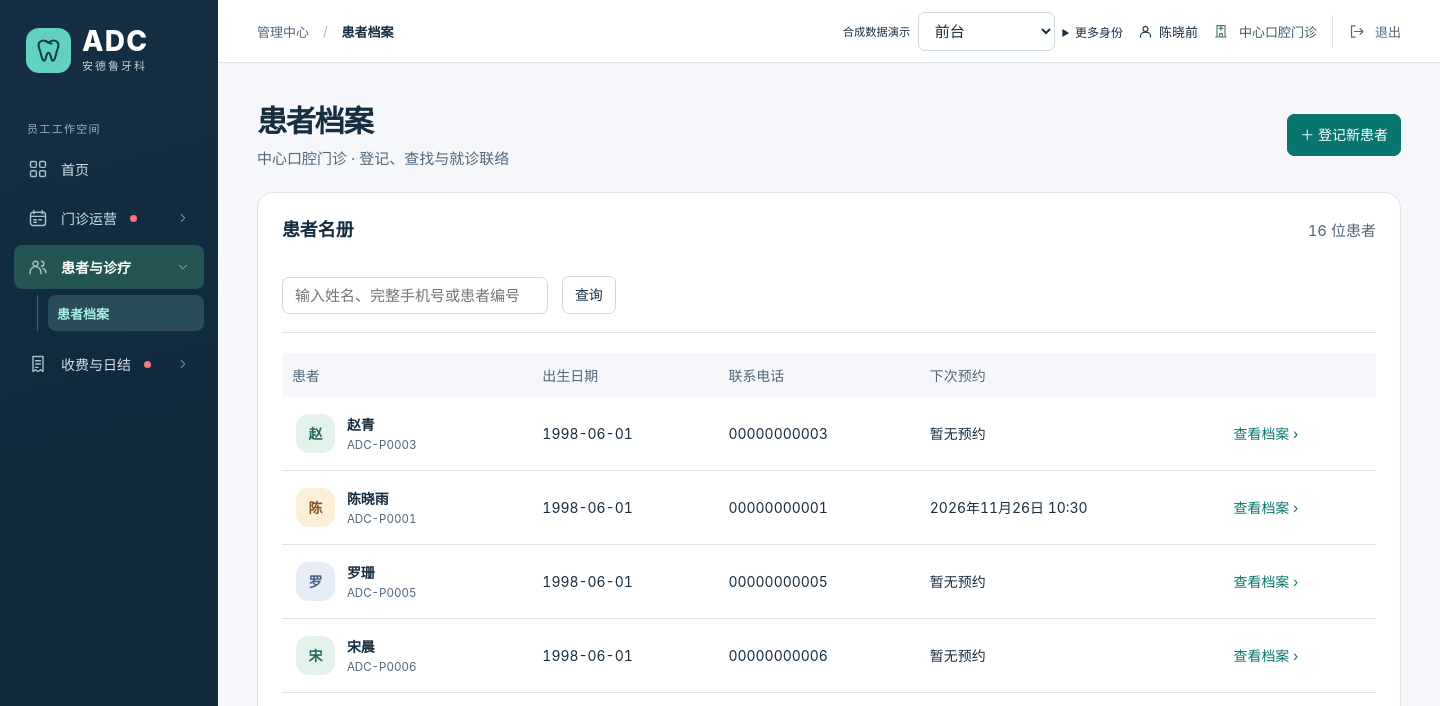
Test: registration offers the existing chart before saving a same-name patient
Click the button "＋ 登记新患者" at (1344, 135), box [1287,114,1401,156]
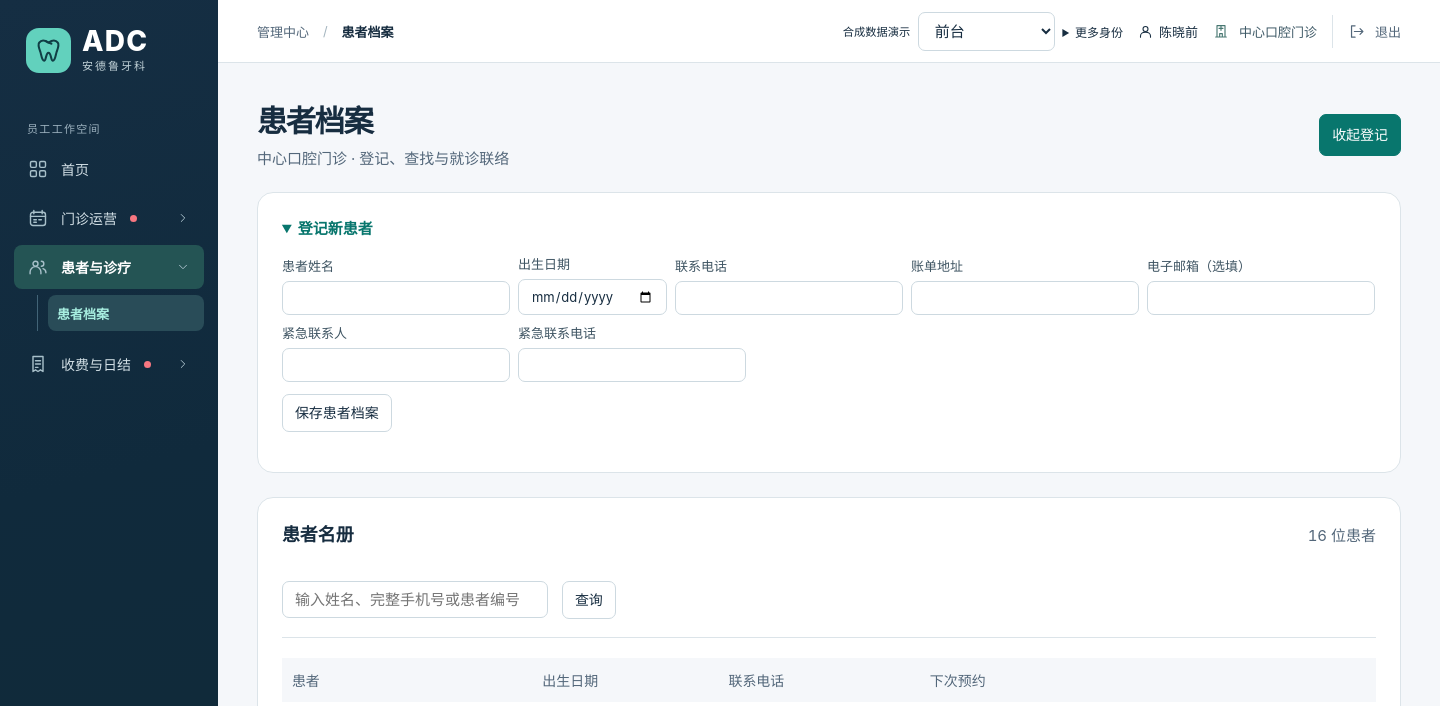
Type "陈晓雨" into the field labelled "患者姓名" at (396, 298), box [282,281,510,315]
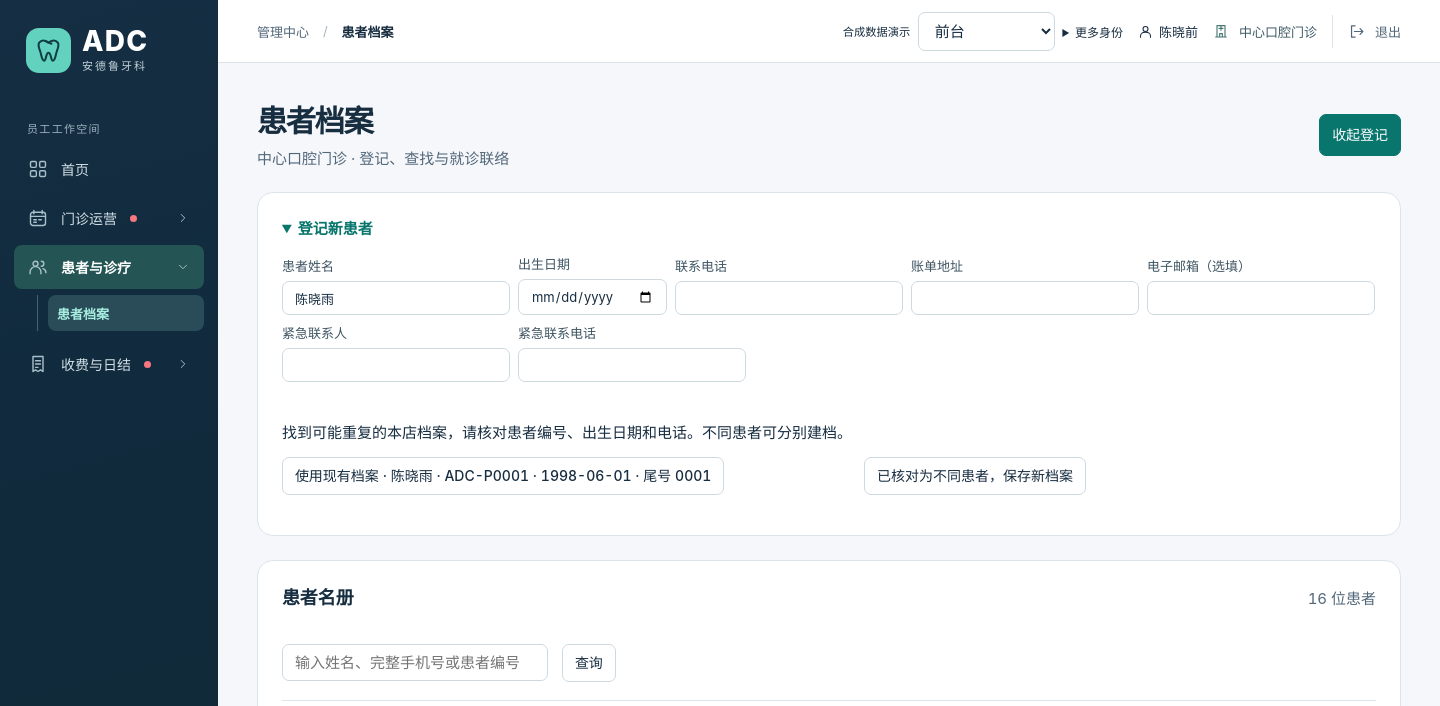
Click the button "使用现有档案 · 陈晓雨 · ADC-P0001 · 1998-06-01 · 尾号 0001" at (503, 476), box [282,457,724,495]
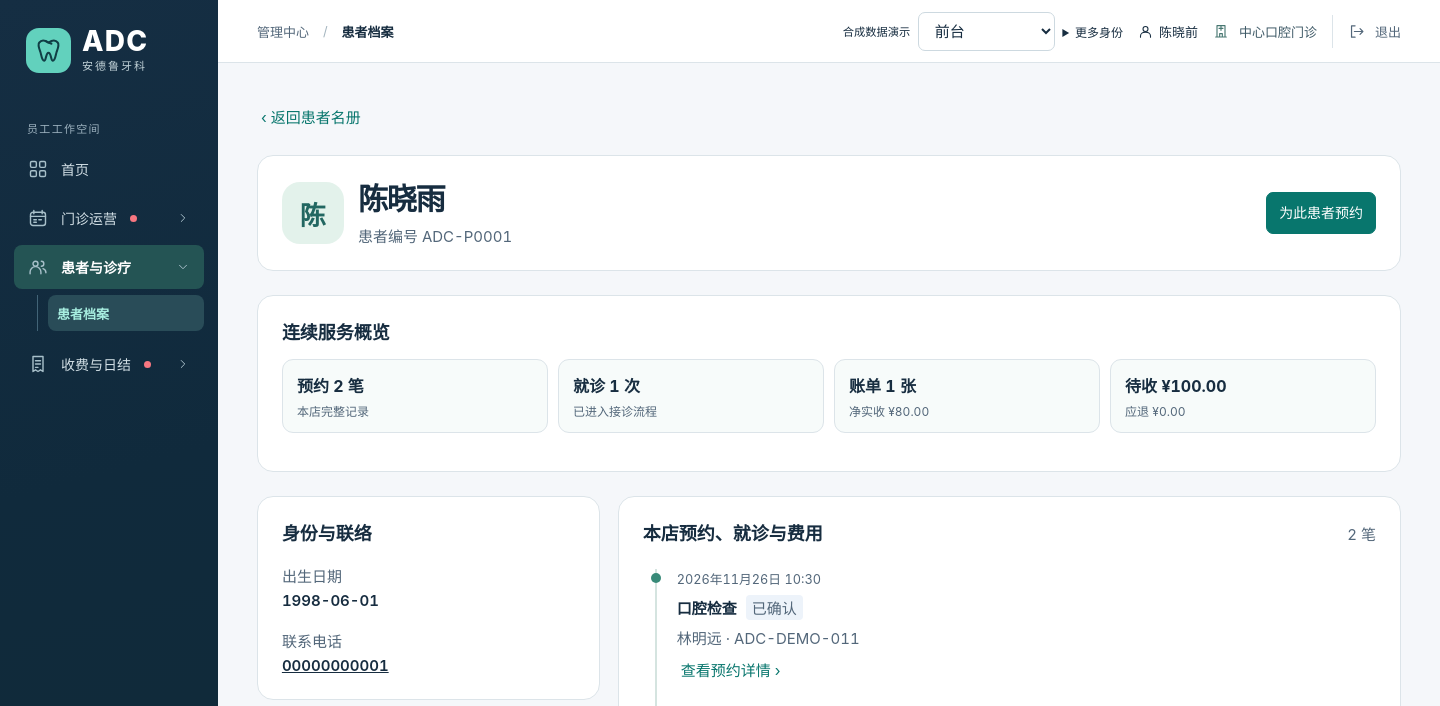
Expected: the button "保存患者档案" is not shown
Expected: the heading "连续服务概览" is shown, [282,322,390,343]
